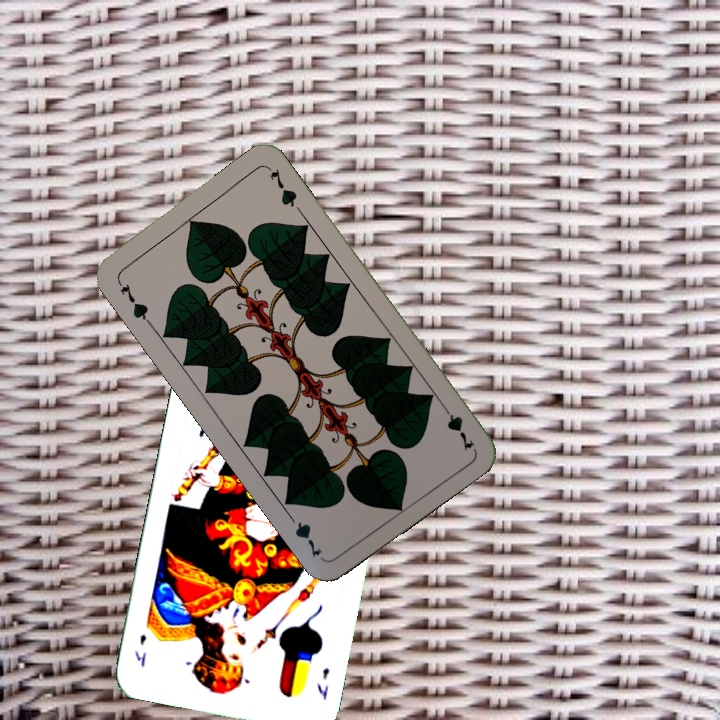EK: (313, 663, 332, 703)
G7: (437, 399, 478, 453), (113, 276, 154, 327)
